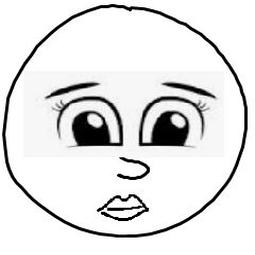cupid_mouth: (85, 191, 152, 221)
eye: (136, 96, 221, 155), (50, 95, 129, 155)
eyebrow: (159, 75, 219, 97), (44, 79, 99, 100)
nose: (115, 152, 157, 184)
